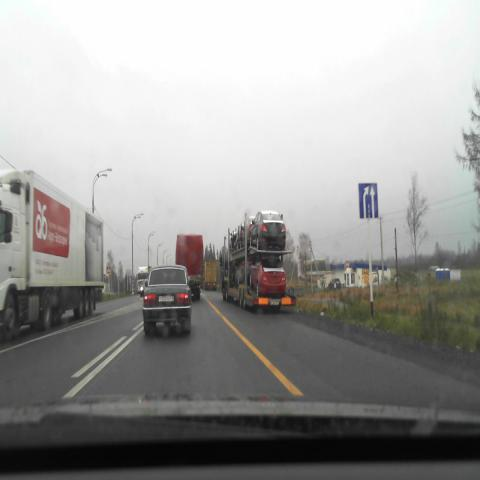5_15_5: (358, 183, 378, 218)
